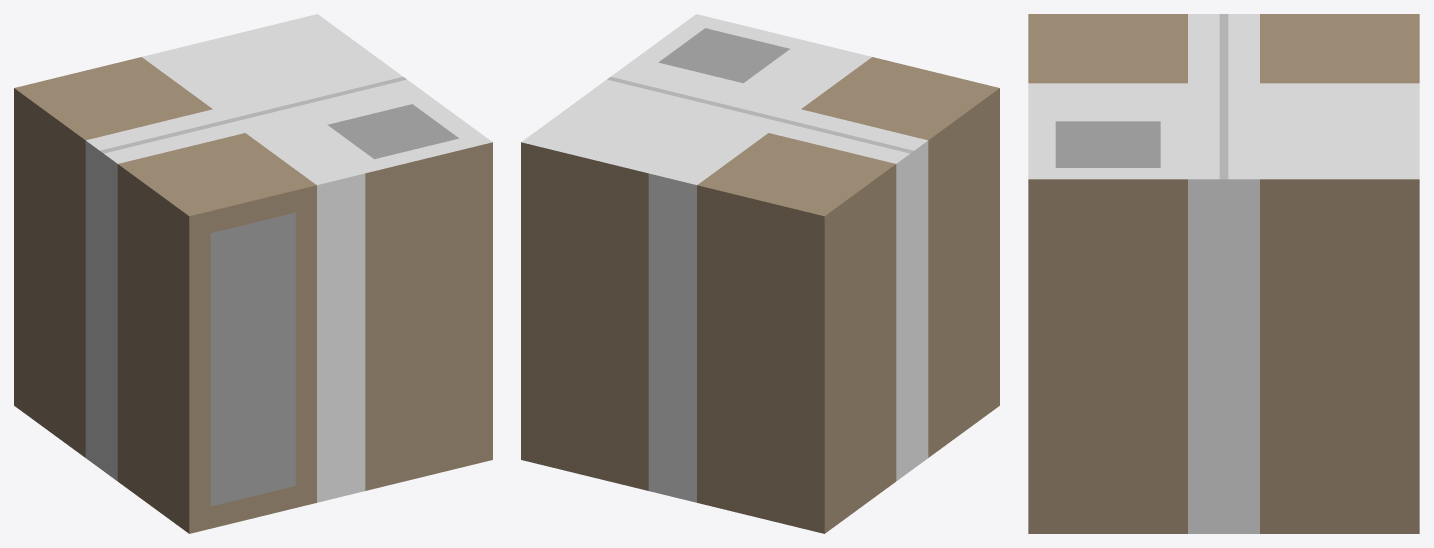
The model's file is Caja de compra 1.fbx.
3 views of the same model, side by side, from view 1: azimuth 30°, elevation 25°; view 2: azimuth 150°, elevation 25°; view 3: azimuth 270°, elevation 25° (orthographic). The views are drawn at different scales.
Visible parts, largest first — view 1: Caja_de_compra_1; view 2: Caja_de_compra_1; view 3: Caja_de_compra_1.
Boxes of the visible parts, <box> form: Caja_de_compra_1: <box>14,14,492,533</box>; Caja_de_compra_1: <box>521,14,999,533</box>; Caja_de_compra_1: <box>1028,14,1419,533</box>.
Size of the model in its own units: 0.7031 by 0.7031 by 0.7031.
